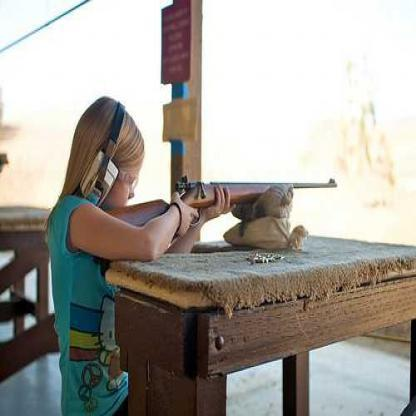rifle: (94, 129, 365, 274)
